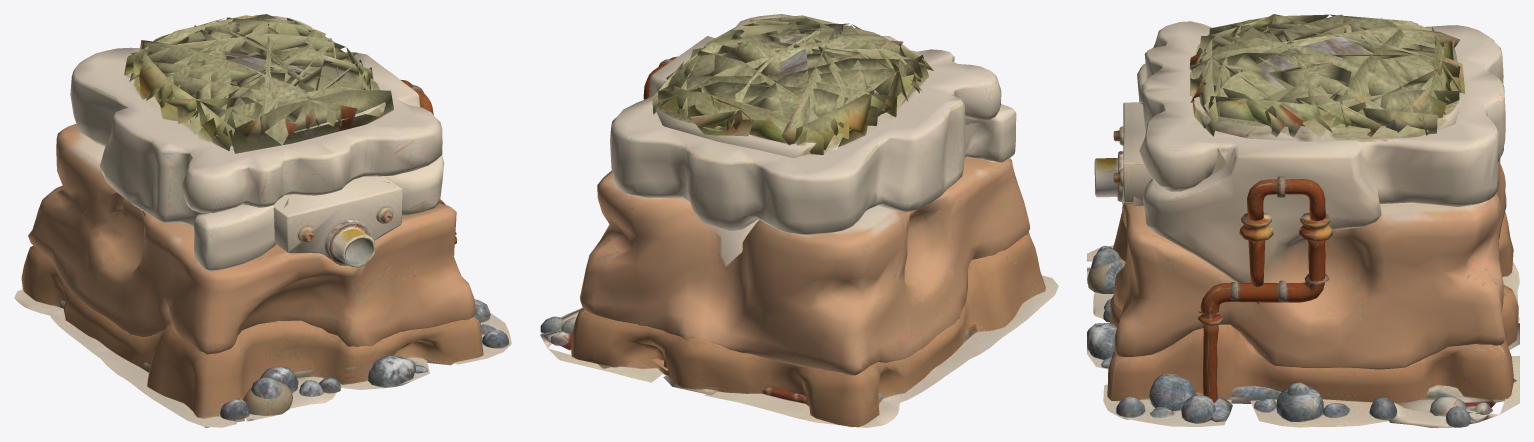
The model's file is sea-cliff.glb.
The picture shows the model from 3 angles, left to right: view 1: azimuth 30°, elevation 25°; view 2: azimuth 150°, elevation 25°; view 3: azimuth 270°, elevation 25°; orthographic projection. The views are drawn at different scales.
Parts seen in each view (by area): view 1: sea-cliff; view 2: sea-cliff; view 3: sea-cliff.
Boxes of the visible parts, <box> form: sea-cliff: <box>14,14,511,427</box>; sea-cliff: <box>540,14,1058,427</box>; sea-cliff: <box>1087,14,1519,427</box>.
Size of the model in its own units: 8 by 5.95 by 8.
1 material, 1 textured.
